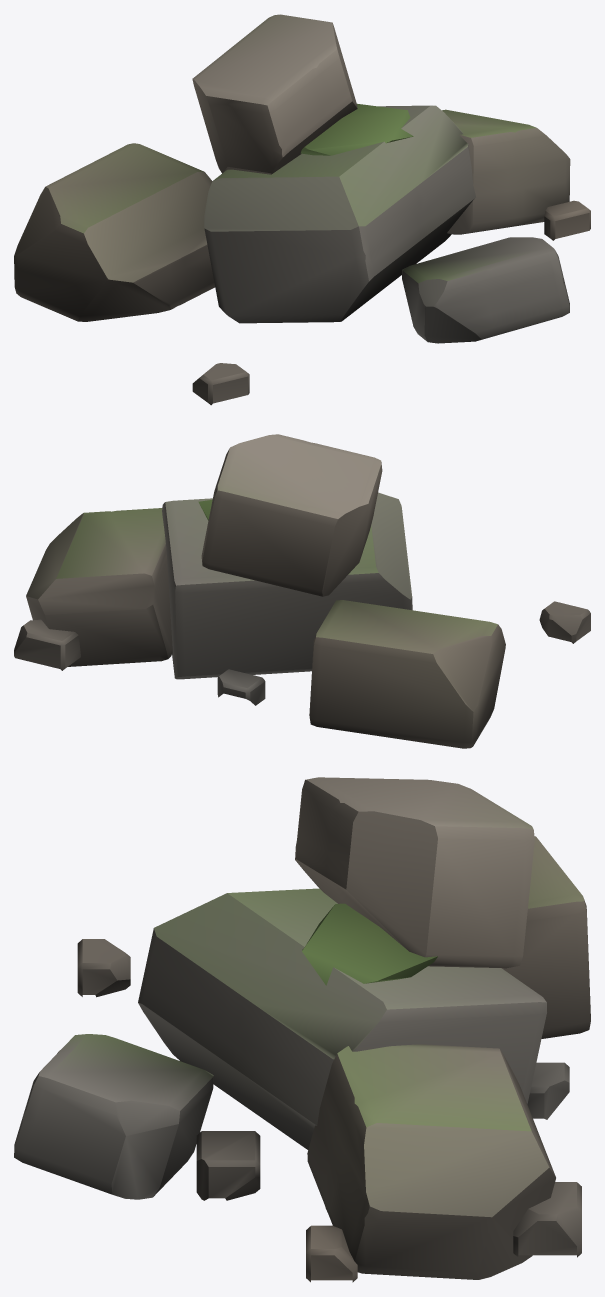
The model's file is ruins-rubble-a-v2.glb.
The picture shows the model from 3 angles, top to bottom: view 1: azimuth 30°, elevation 25°; view 2: azimuth 150°, elevation 25°; view 3: azimuth 270°, elevation 25°; orthographic projection. The views are drawn at different scales.
Parts seen in each view (by area): view 1: 0_ruins_rubble_0; view 2: 0_ruins_rubble_0; view 3: 0_ruins_rubble_0.
Boxes of the visible parts, x1=… form: 0_ruins_rubble_0: x1=14, y1=14, x2=590, y2=405; 0_ruins_rubble_0: x1=14, y1=434, x2=590, y2=748; 0_ruins_rubble_0: x1=14, y1=777, x2=590, y2=1282.
Bounding box in the file's own units: 1.6 × 0.7488 × 1.16.
